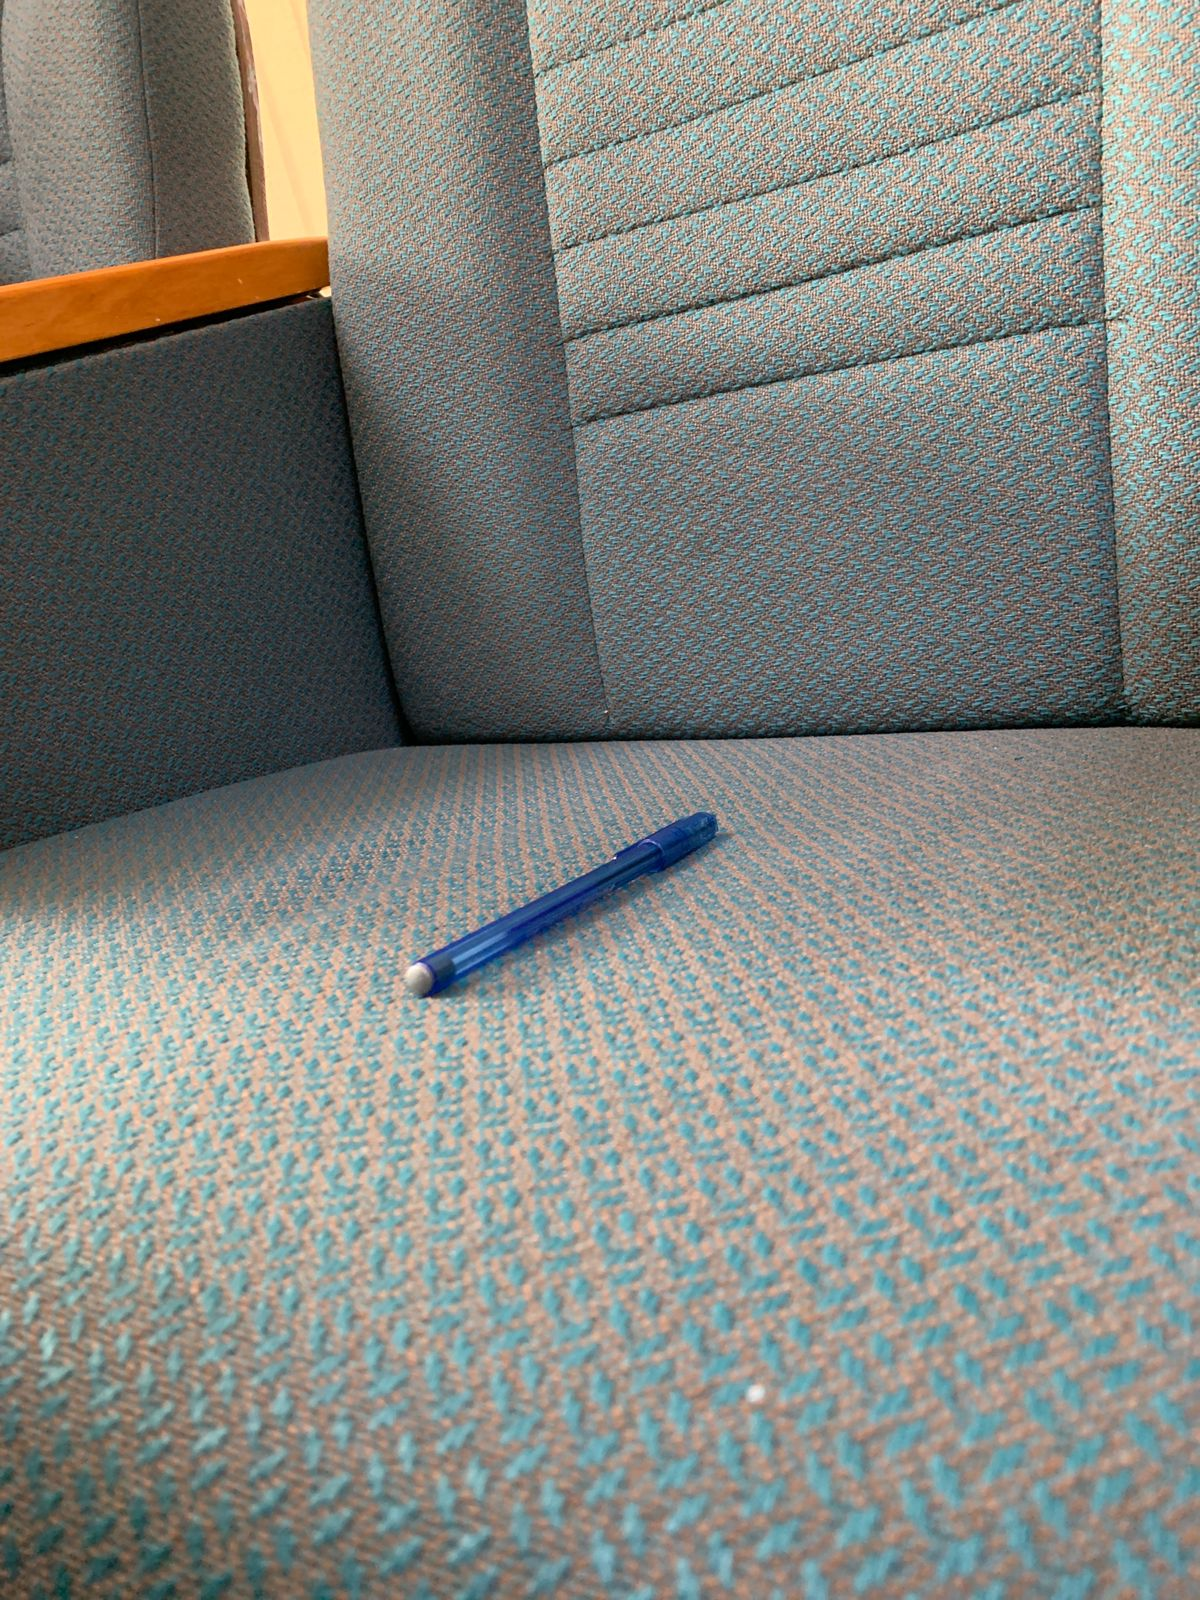pen: (297, 734, 807, 1090)
